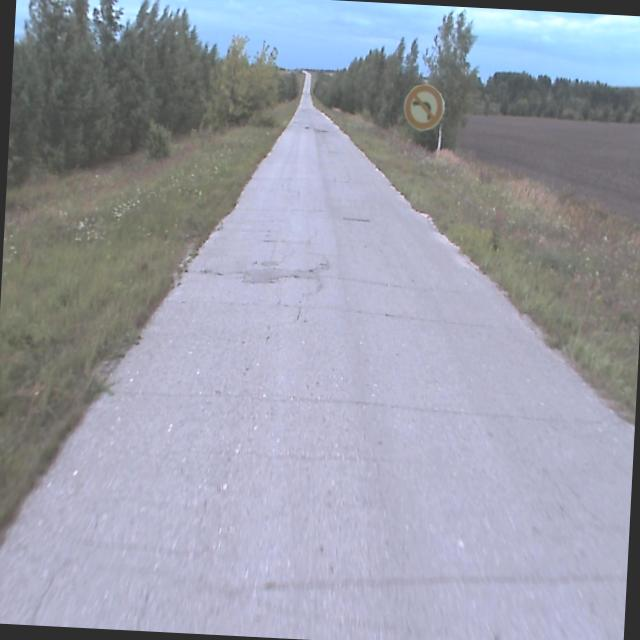road: (0, 105, 634, 640)
